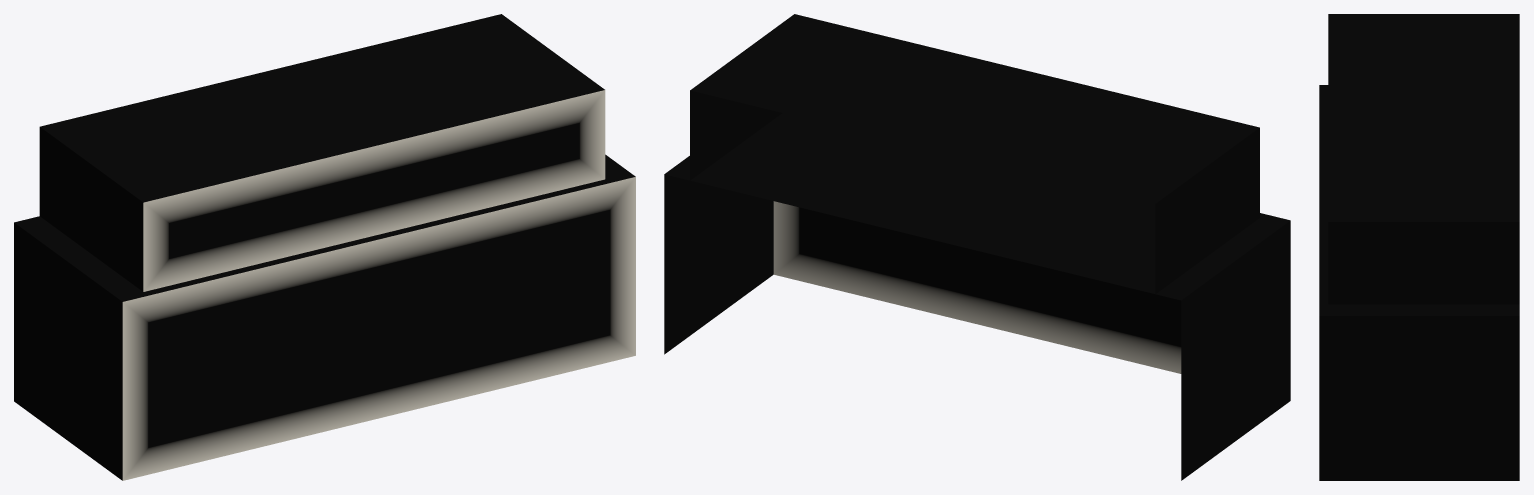
The model's file is pilaster_base.glb.
The picture shows the model from 3 angles, left to right: view 1: azimuth 30°, elevation 25°; view 2: azimuth 150°, elevation 25°; view 3: azimuth 270°, elevation 25°; orthographic projection. The views are drawn at different scales.
Parts seen in each view (by area): view 1: pilaster_base; view 2: pilaster_base; view 3: pilaster_base.
Boxes of the visible parts, bbox=[...] form: pilaster_base: bbox=[14, 14, 635, 480]; pilaster_base: bbox=[664, 14, 1290, 480]; pilaster_base: bbox=[1319, 14, 1519, 480].
Bounding box in the file's own units: 0.3 × 0.15 × 0.11.
